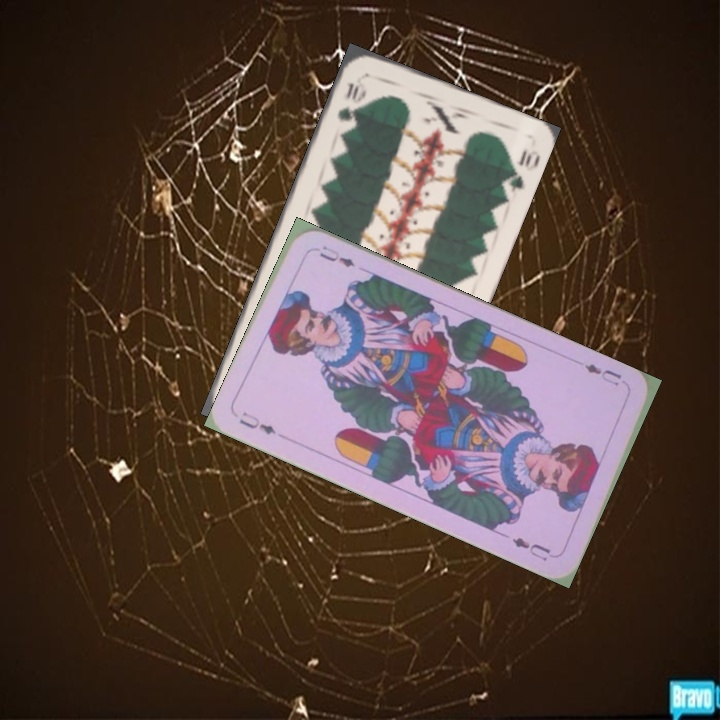EU: (234, 407, 279, 438), (580, 359, 624, 389)
G10: (333, 73, 363, 124)
